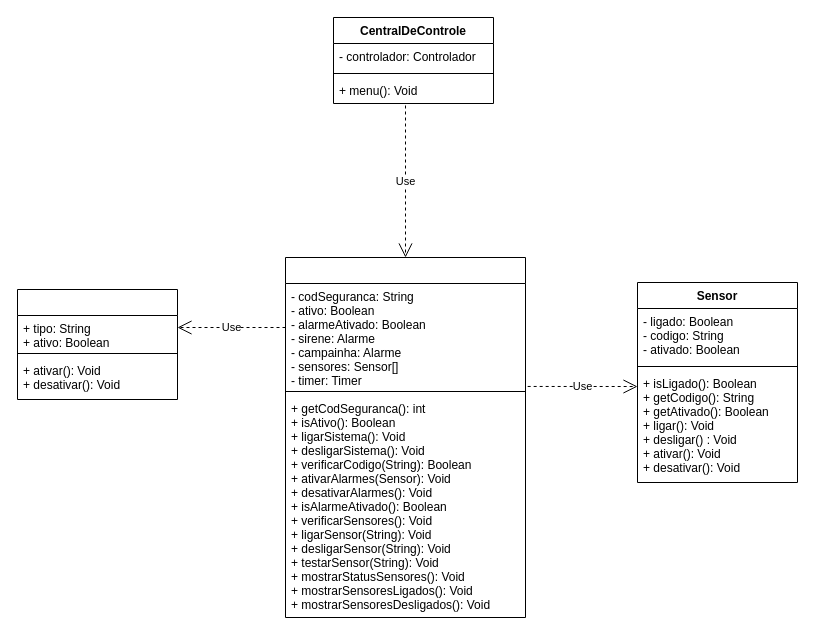
This 815x638 diagram has some shape labels left out. Each missing label, with the box of its shape:
Alarme: (16, 288, 178, 400)
Controlador: (284, 256, 526, 618)
